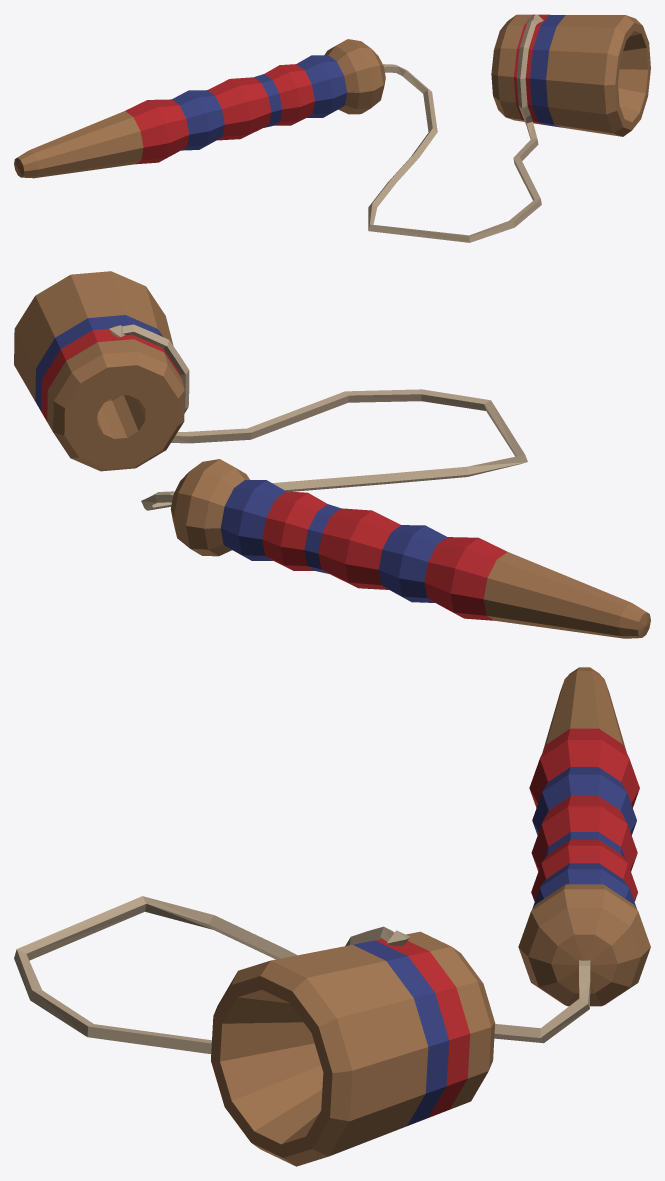
Rendered from emboque-bfbc2e.glb.
3 views of the same model, one above another, from view 1: azimuth 30°, elevation 25°; view 2: azimuth 150°, elevation 25°; view 3: azimuth 270°, elevation 25° (orthographic). The views are drawn at different scales.
Visible parts, largest first — view 1: emboque-body; view 2: emboque-body; view 3: emboque-body.
Part boxes in pixels (x1,y1,x2,y2): emboque-body: [14, 14, 650, 242]; emboque-body: [14, 271, 650, 638]; emboque-body: [14, 667, 650, 1166].
Bounding box in the file's own units: 0.3131 × 0.0584 × 0.1806.
